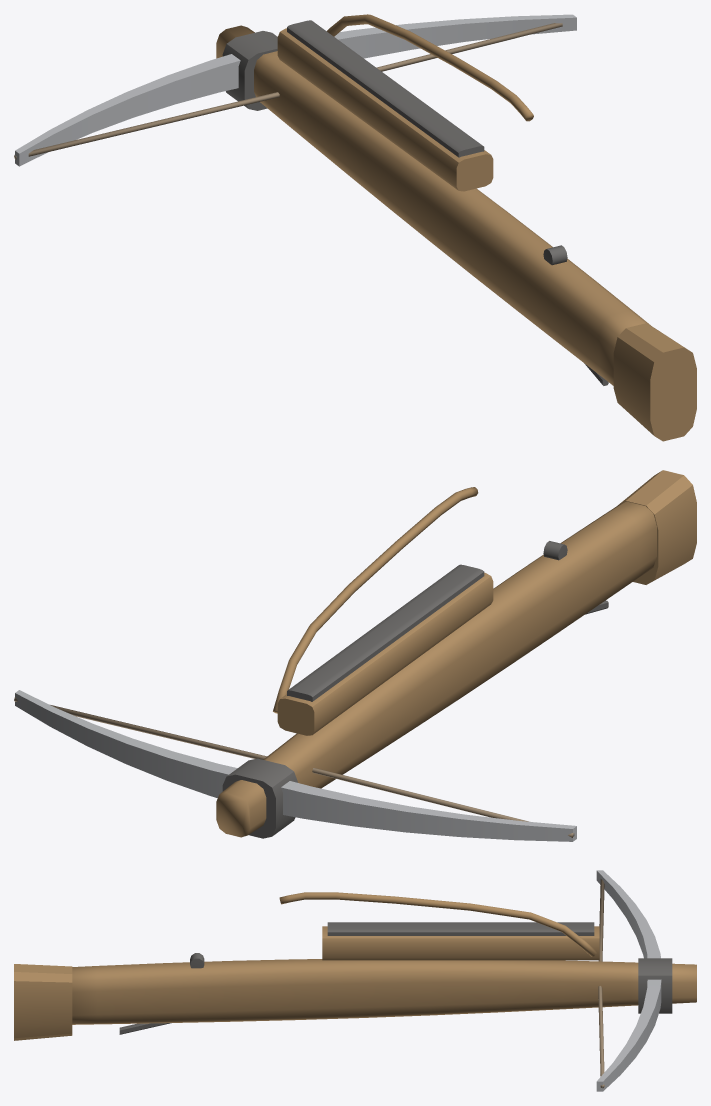
Rendered from repeating-heavy-crossbow.glb.
3 renders of one model, top to bottom at view 1: azimuth 30°, elevation 25°; view 2: azimuth 150°, elevation 25°; view 3: azimuth 270°, elevation 25°, orthographic. The views are drawn at different scales.
Visible parts, largest first — view 1: repeating-heavy-crossbow; view 2: repeating-heavy-crossbow; view 3: repeating-heavy-crossbow.
Boxes of the visible parts, x1,y1,x2,y2 form: repeating-heavy-crossbow: (14, 14, 696, 441); repeating-heavy-crossbow: (14, 470, 696, 841); repeating-heavy-crossbow: (14, 870, 696, 1091).
Bounding box in the file's own units: 1.8 × 0.6161 × 2.46.
